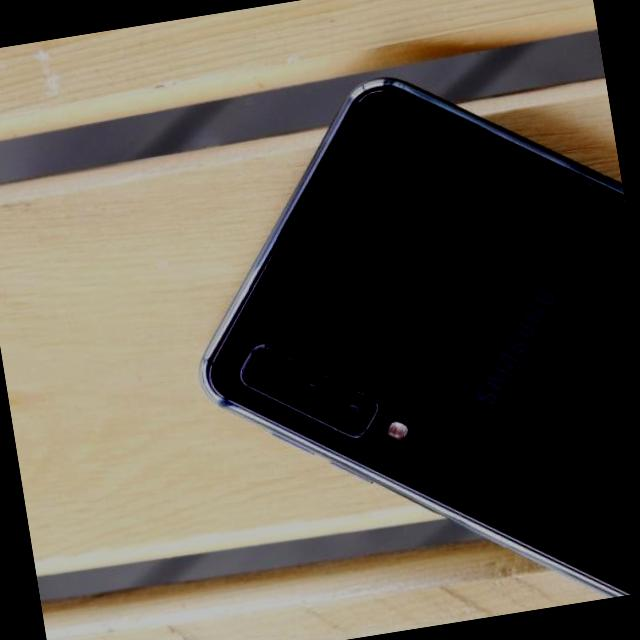lens_back: (242, 346, 290, 391), (332, 389, 372, 426), (290, 372, 330, 406)
phone: (160, 42, 640, 640)
